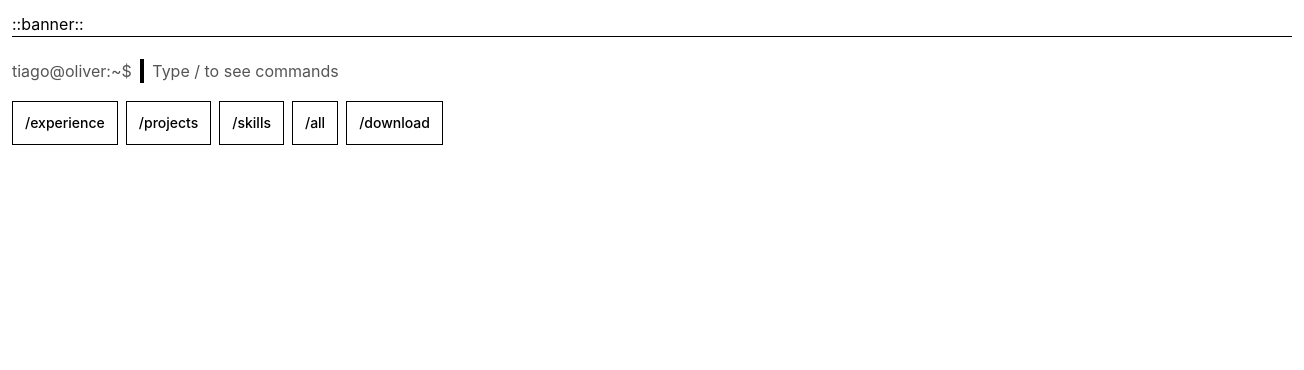
Test: Terminal › Given clear, should remove the previous output
Click the button "/skills": (252, 123) top-left (219, 101), bottom-right (284, 145)
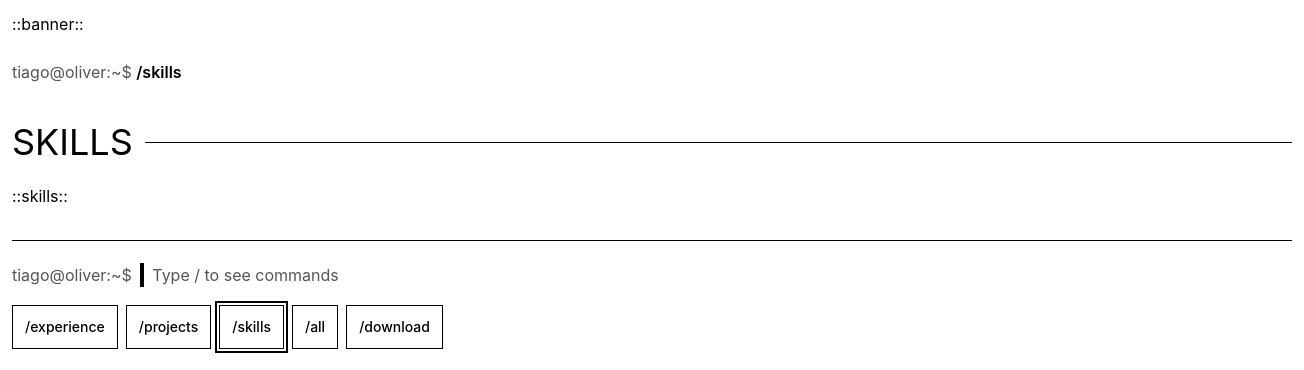
In the dropdown named "Command": (716, 275) top-left (140, 253), bottom-right (1292, 297), type "clear"
Then press Enter
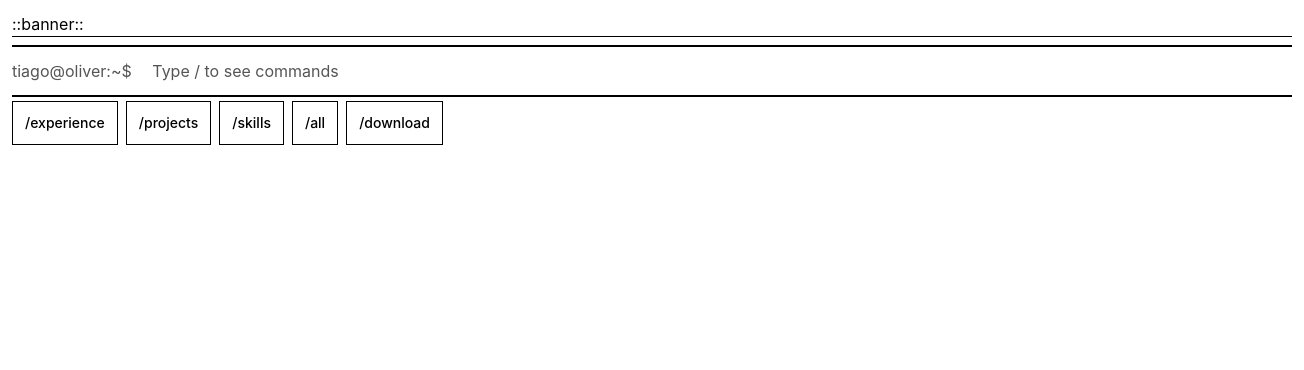
Expected: the text "::skills::" is gone
